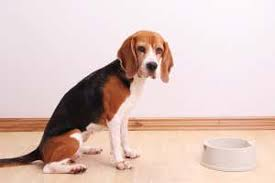dog: (106, 21, 201, 96)
